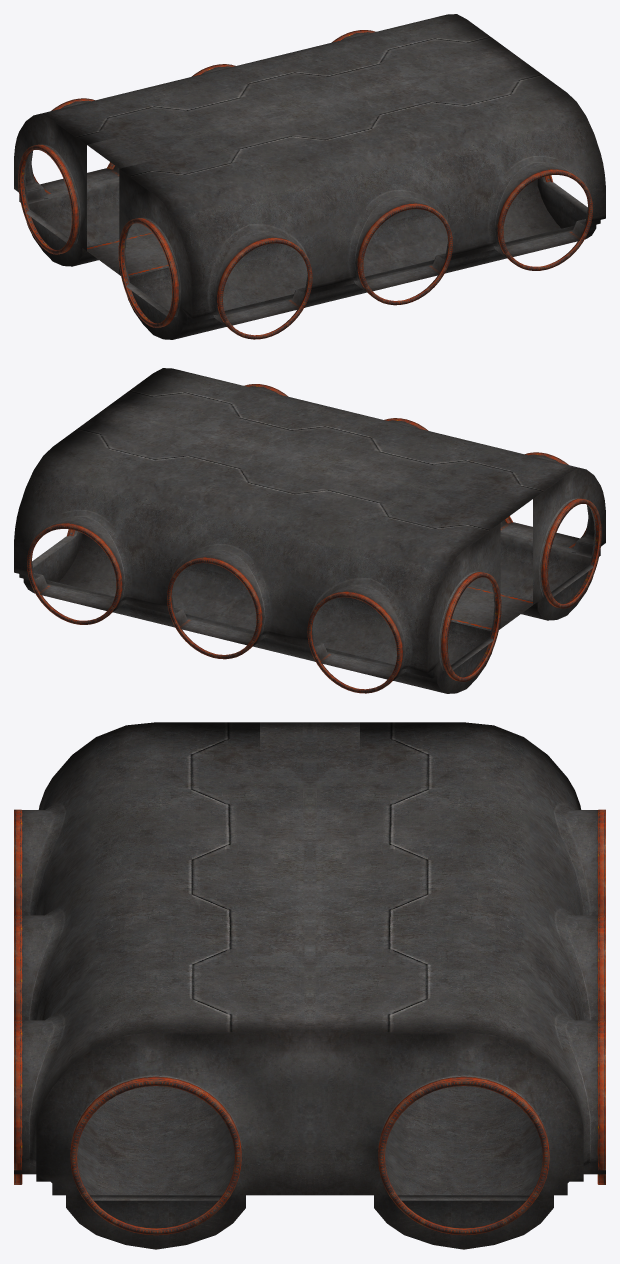
The model's file is tau_living_area_hub.dae.
3 views of the same model, one above another, from view 1: azimuth 30°, elevation 25°; view 2: azimuth 150°, elevation 25°; view 3: azimuth 270°, elevation 25° (orthographic). The views are drawn at different scales.
Visible parts, largest first — view 1: polySurface378, pPipe49, pPipe60, pPipe45, pPipe44, pPipe46; view 2: polySurface378, pPipe60, pPipe49, pPipe43, pPipe42, pPipe40; view 3: polySurface378, pPipe47, pPipe41, pPipe40, pPipe46, pPipe43, pPipe44, pPipe42, pPipe45.
Part boxes in pixels (x1,y1,x2,y2): polySurface378: (14, 14, 605, 339); pPipe49: (18, 144, 78, 254); pPipe60: (118, 218, 178, 327); pPipe45: (357, 203, 452, 305); pPipe44: (217, 237, 312, 339); pPipe46: (497, 169, 592, 270); polySurface378: (14, 368, 605, 693); pPipe60: (541, 498, 601, 608); pPipe49: (441, 572, 501, 681); pPipe43: (307, 591, 402, 693); pPipe42: (167, 557, 262, 659); pPipe40: (27, 523, 122, 624); polySurface378: (14, 722, 605, 1249); pPipe47: (70, 1076, 241, 1235); pPipe41: (378, 1076, 549, 1235); pPipe40: (597, 1020, 605, 1184); pPipe46: (14, 1020, 22, 1184); pPipe43: (597, 809, 605, 914); pPipe44: (14, 809, 22, 914); pPipe42: (597, 915, 605, 1019); pPipe45: (14, 915, 22, 1019).
Bounding box in the file's own units: 16 × 5.07 × 12.5.
